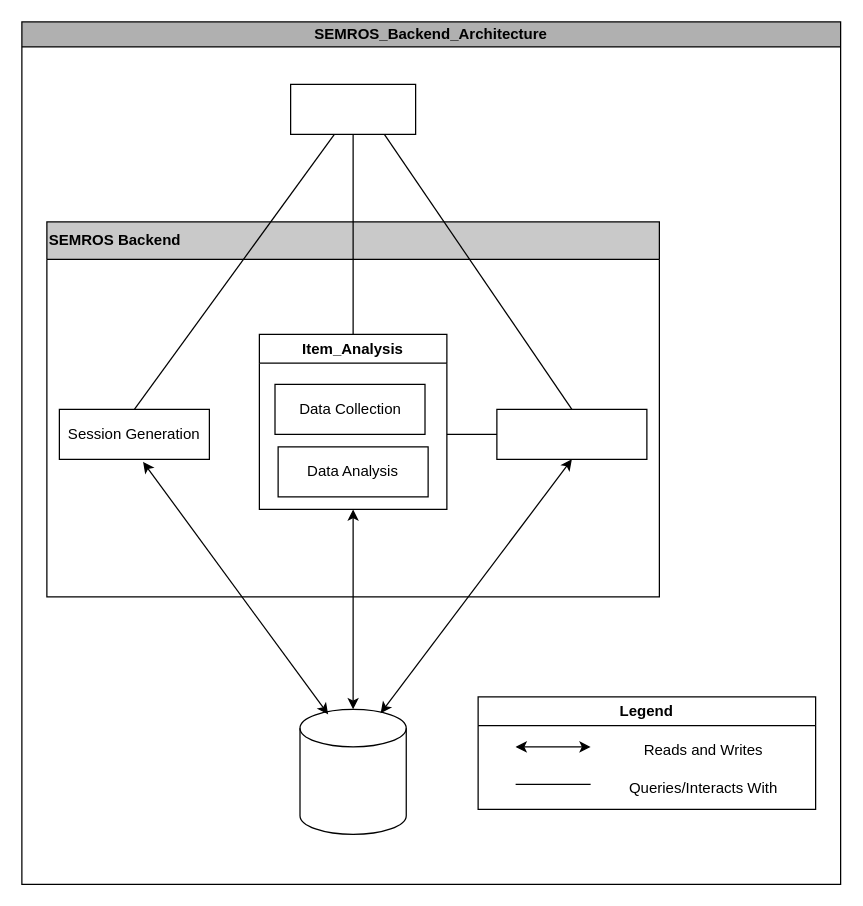
This 863x906 diagram has some shape labels left out. The shapes that lost their labels are listed below. From the top down, each one's centre as x and y in pixels, then its label:
At point 352,108: "External Client".
At point 571,433: "Vendibility Feedback".
At point 352,771: "SEMROS Database (Cloud)".
